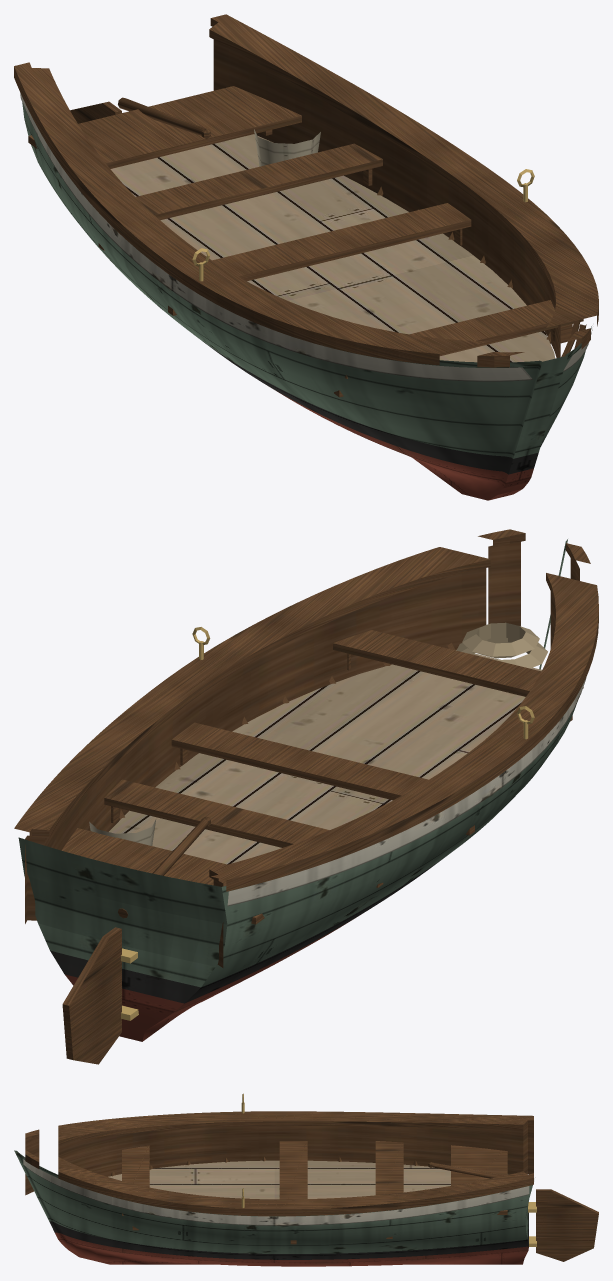
Rendered from SM_MarshSkiff.glb.
3 views of the same model, one above another, from view 1: azimuth 30°, elevation 25°; view 2: azimuth 150°, elevation 25°; view 3: azimuth 270°, elevation 25° (orthographic). The views are drawn at different scales.
Parts seen in each view (by area): view 1: SM_MarshSkiff; view 2: SM_MarshSkiff; view 3: SM_MarshSkiff.
Part boxes in pixels (bbox=[...]): SM_MarshSkiff: bbox=[14, 14, 598, 500]; SM_MarshSkiff: bbox=[14, 529, 598, 1064]; SM_MarshSkiff: bbox=[14, 1093, 598, 1266].
Bounding box in the file's own units: 1.87 × 1.05 × 4.63.
9 materials, 7 textured.
